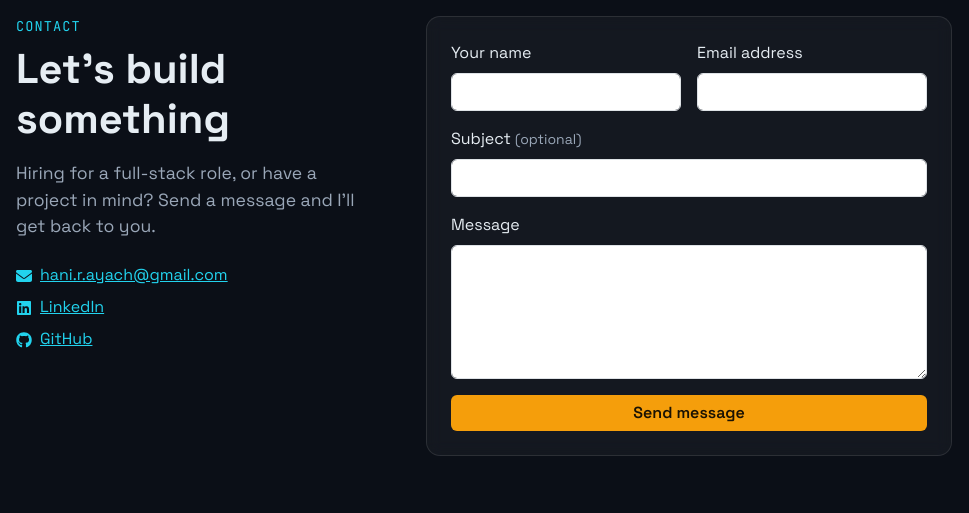
posts the message as JSON to the formsubmit AJAX endpoint
The width and height of the screenshot is (969, 513).
Type "Recruiter" into the field labelled "Your name" at (566, 92), box [451,73,681,111]
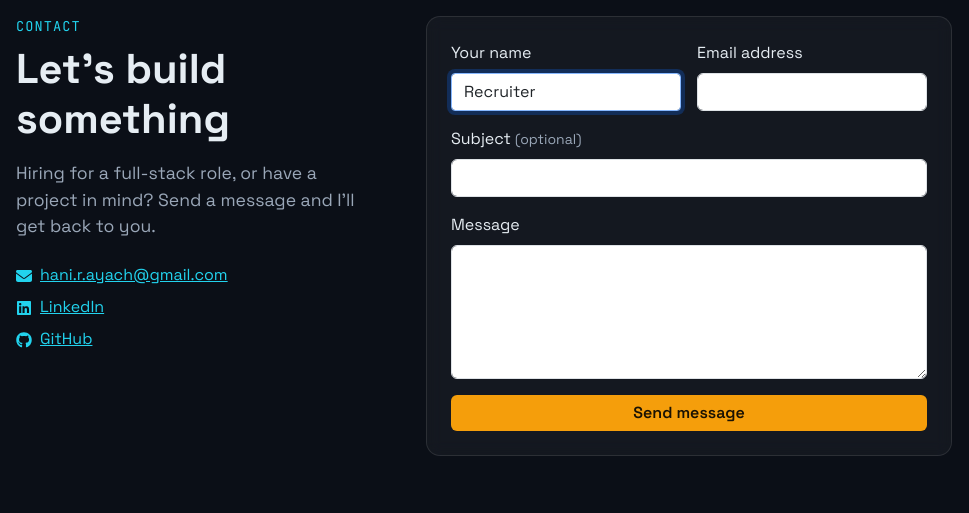
Type "r@company.com" into the field labelled "Email address" at (812, 92), box [697,73,927,111]
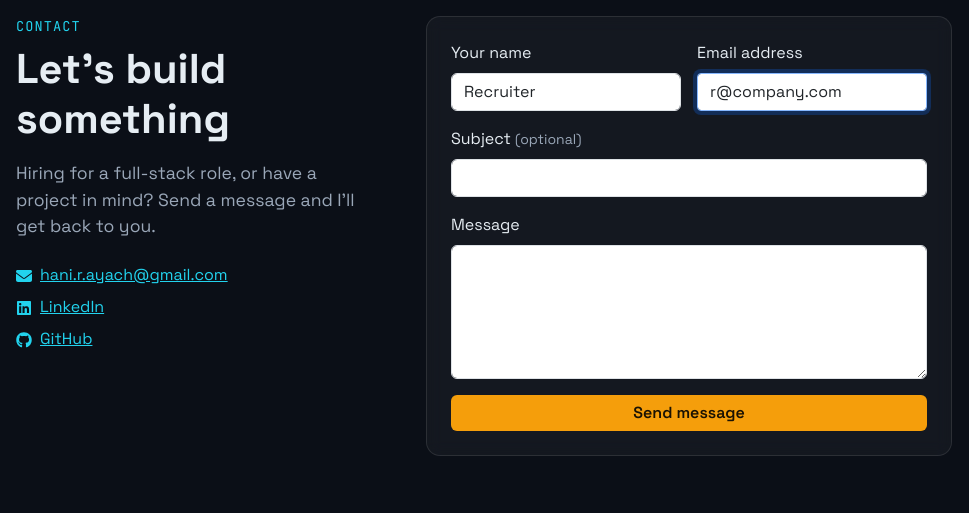
Type "Let's talk" into the text box labelled "Message" at (689, 312), box [451,245,927,379]
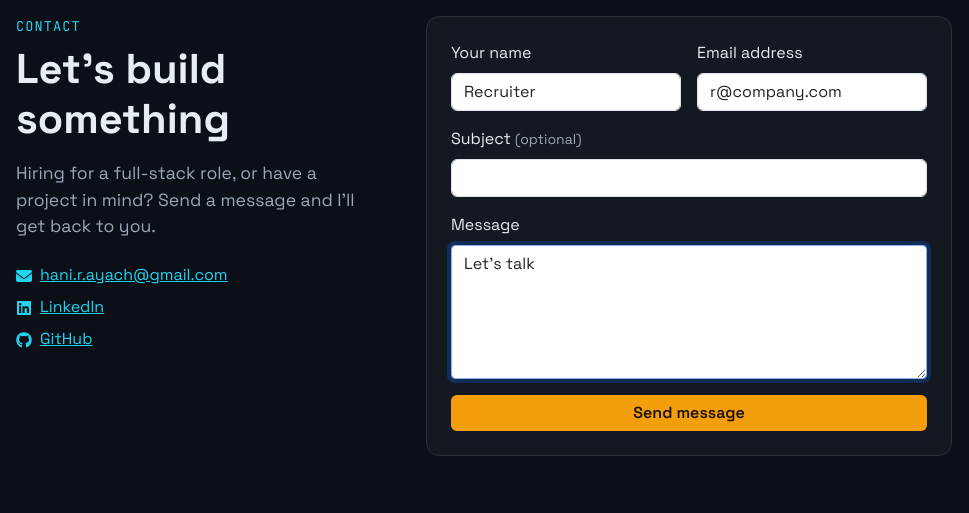
Click the button "Send message" at (689, 413), box [451,395,927,431]
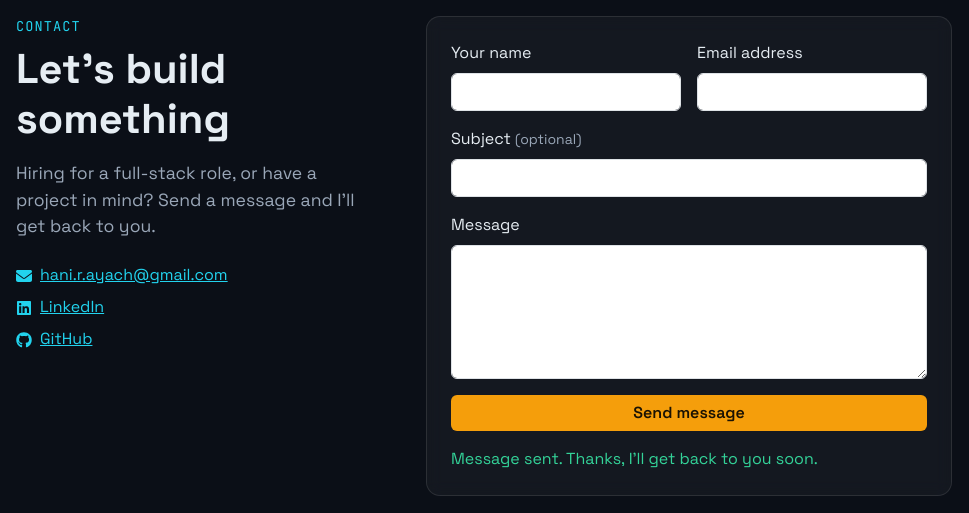
Result: the message shows "Message sent" at [451,448,818,469]
Result: the field labelled "Your name" is empty at [451,73,681,111]
